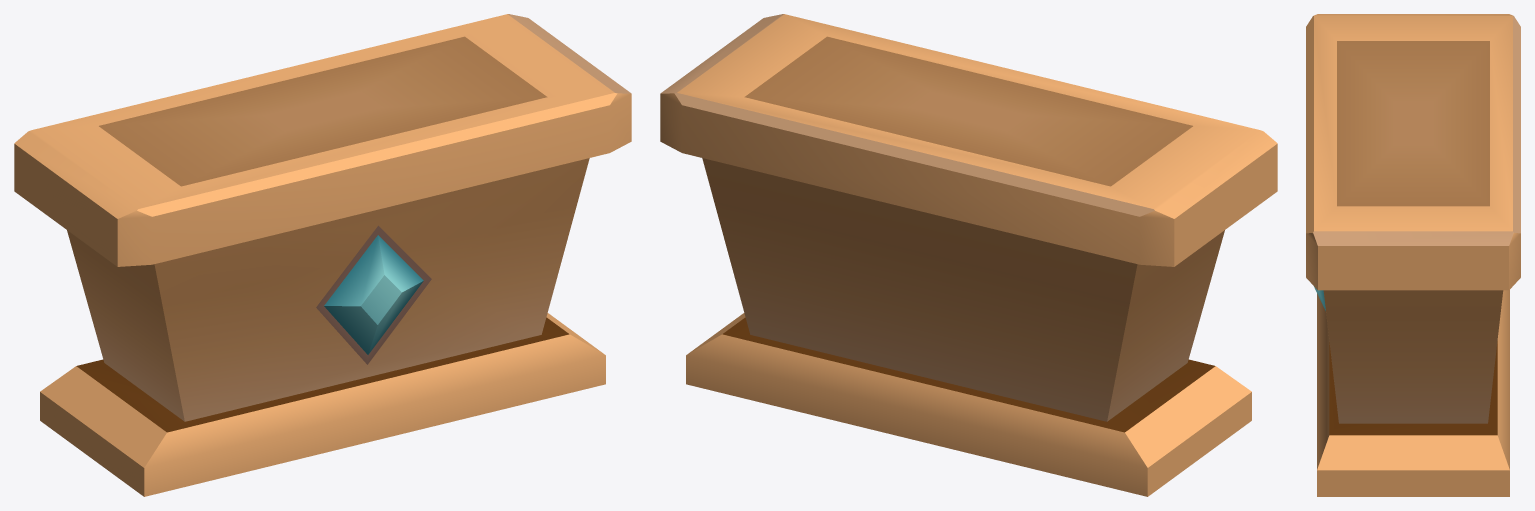
The model's file is Stand.fbx.
The picture shows the model from 3 angles, left to right: view 1: azimuth 30°, elevation 25°; view 2: azimuth 150°, elevation 25°; view 3: azimuth 270°, elevation 25°; orthographic projection. The views are drawn at different scales.
Visible parts, largest first — view 1: Cylinder.012; view 2: Cylinder.012; view 3: Cylinder.012.
Part boxes in pixels (x1,y1,x2,y2): Cylinder.012: (14,14,631,496); Cylinder.012: (660,14,1277,496); Cylinder.012: (1306,14,1520,496).
Bounding box in the file's own units: 1.08 × 0.4242 × 0.5864.
